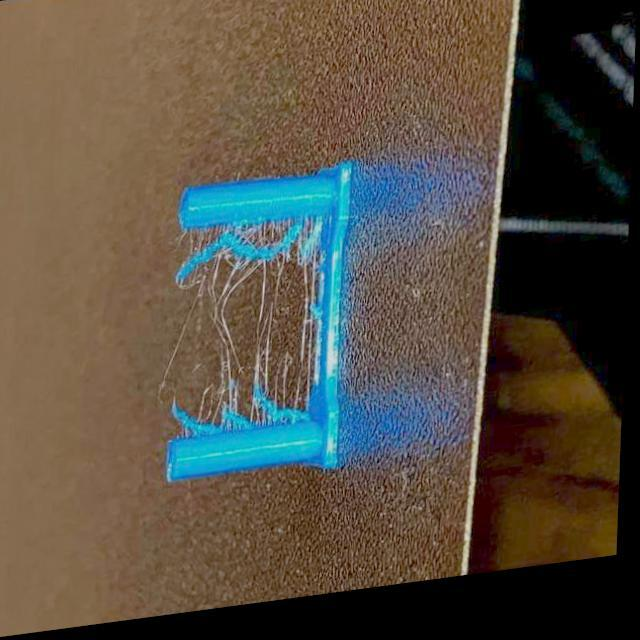stringing: (186, 218, 320, 306), (182, 371, 304, 442)
